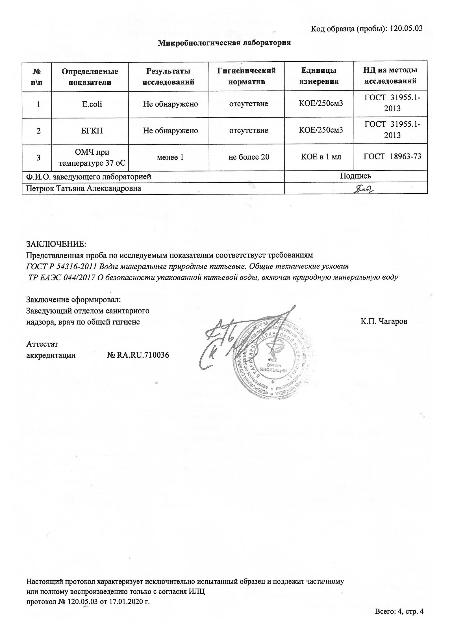stamp: (233, 316, 317, 400)
